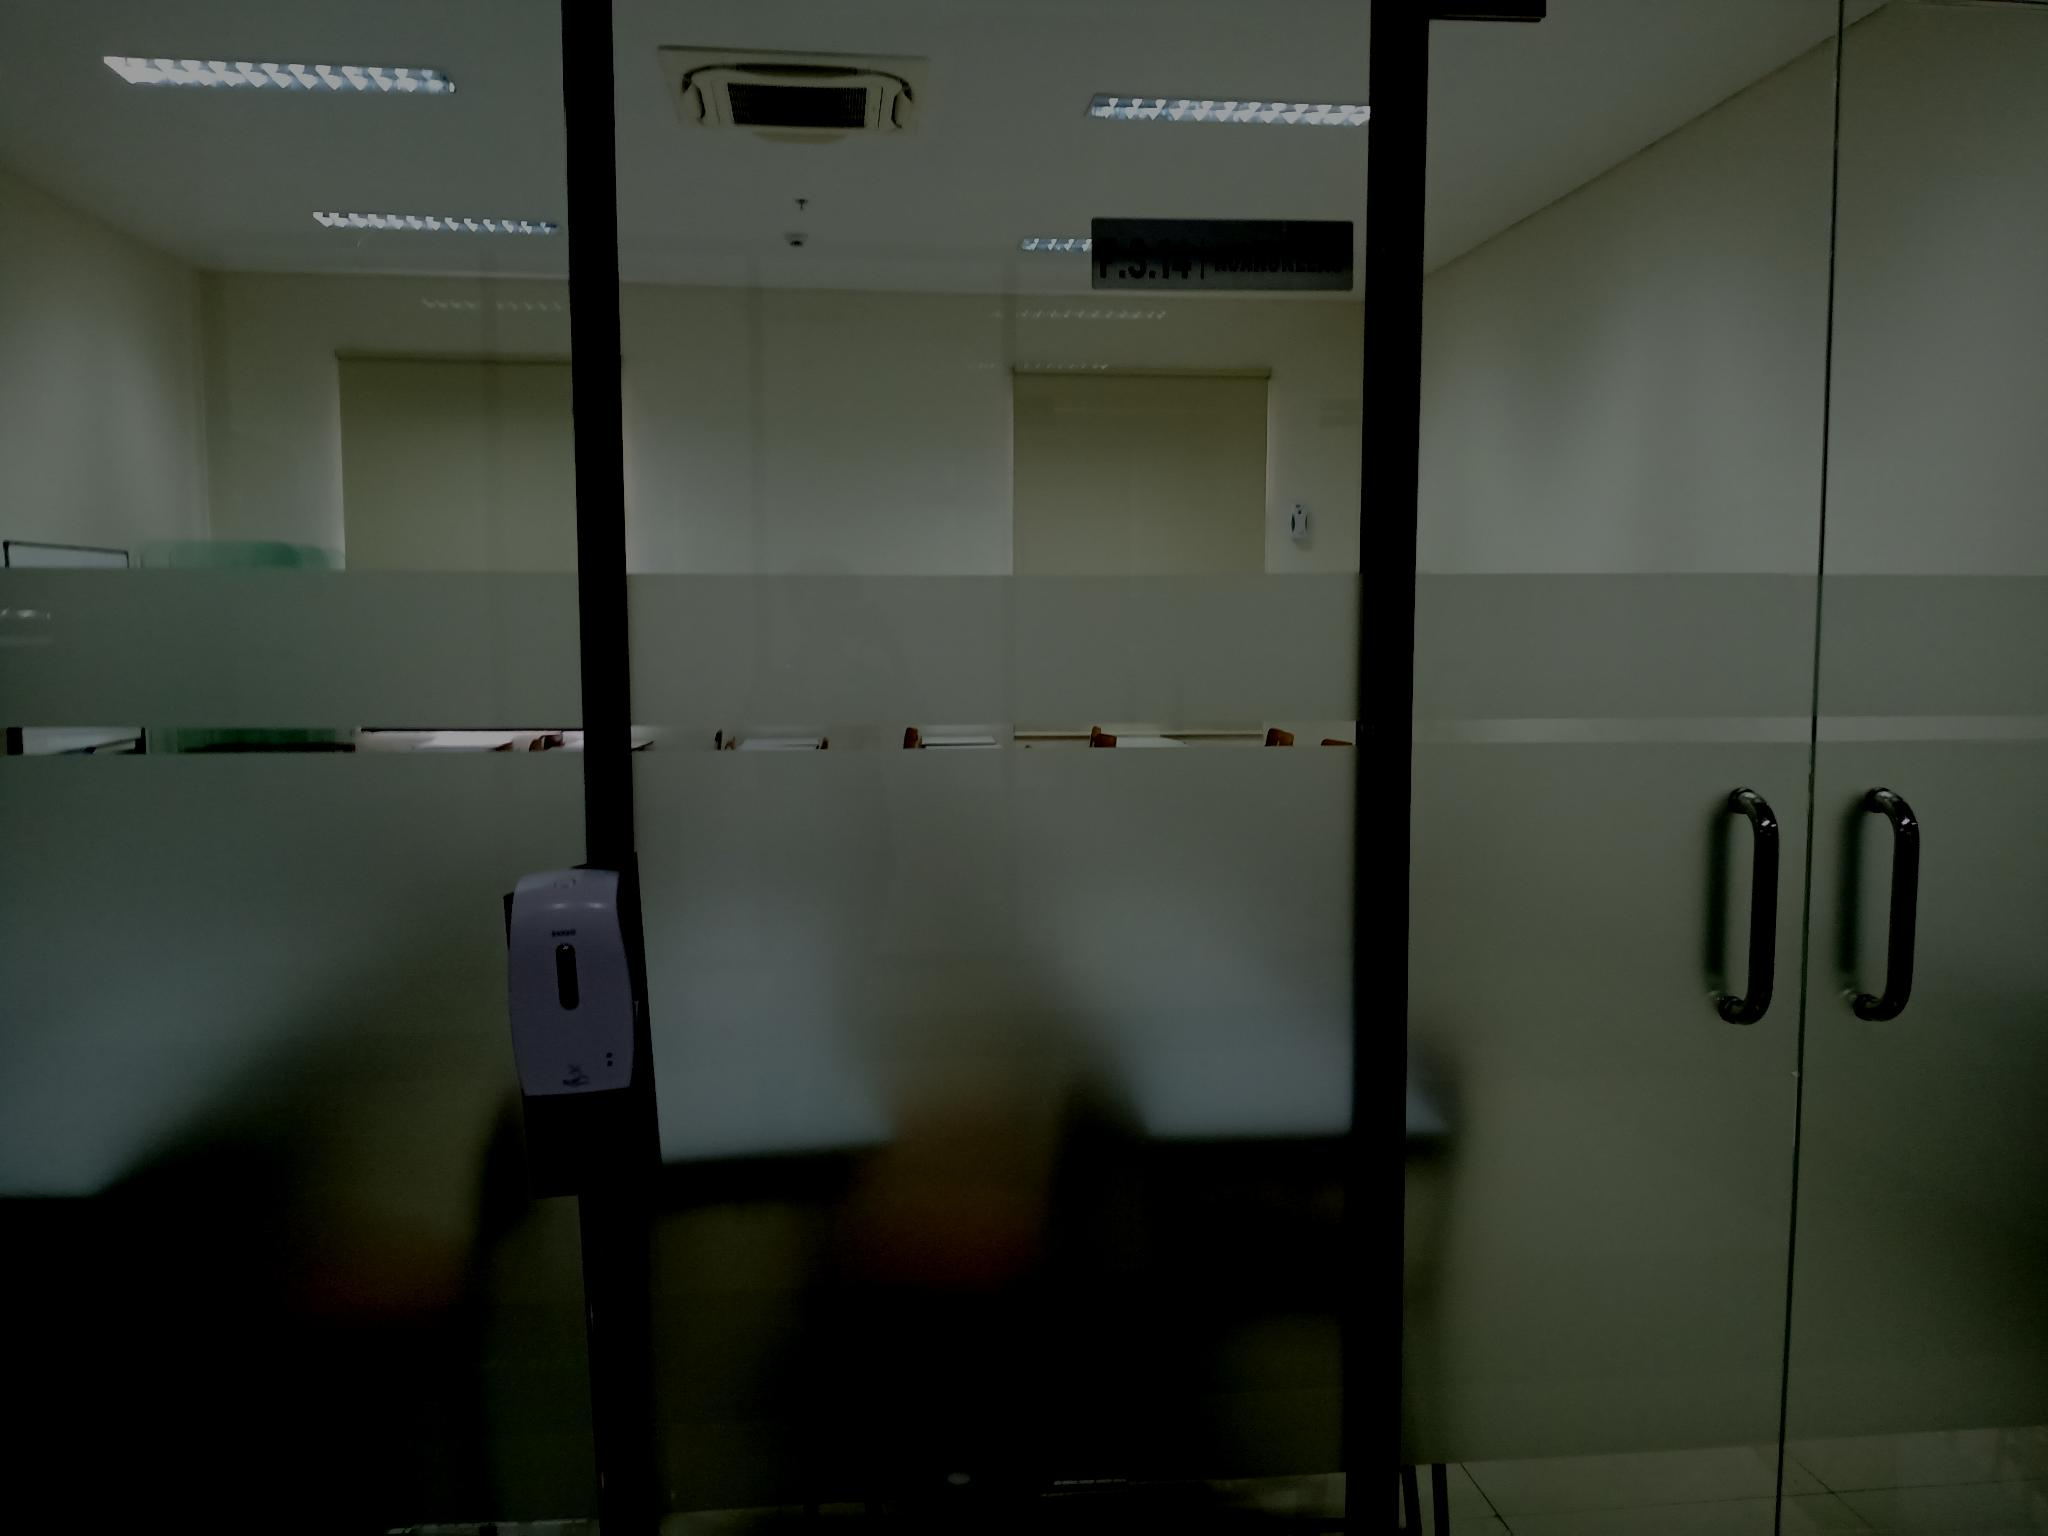plate: (1090, 215, 1355, 292)
